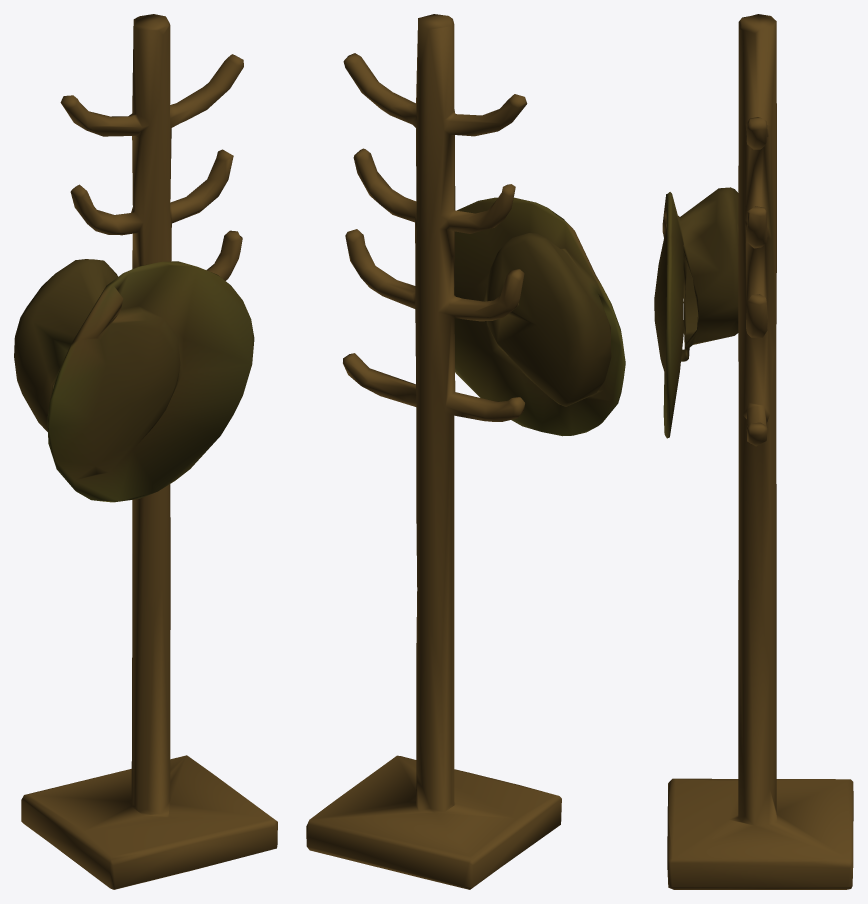
Rendered from gen3d-coat-rack-lod1.glb.
The picture shows the model from 3 angles, left to right: view 1: azimuth 30°, elevation 25°; view 2: azimuth 150°, elevation 25°; view 3: azimuth 270°, elevation 25°; orthographic projection.
Visible parts, largest first — view 1: part_0; view 2: part_0; view 3: part_0.
Part boxes in pixels (<box>): part_0: <box>14,14,277,889</box>; part_0: <box>306,14,625,889</box>; part_0: <box>654,14,853,889</box>.
Bounding box in the file's own units: 0.3036 × 0.9995 × 0.2176.
